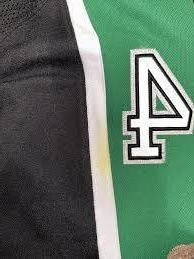mustard: (94, 121, 108, 179)
